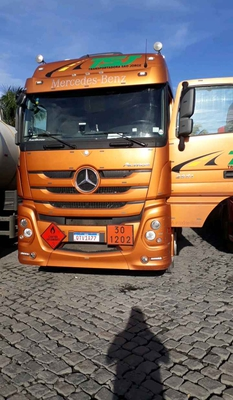Frontal Caminhao: (14, 40, 196, 276)
